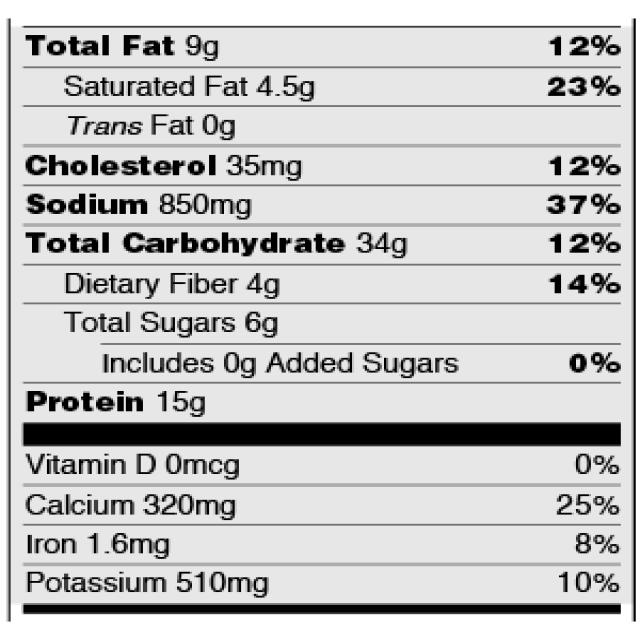Nutrition Label: (6, 16, 640, 626)
